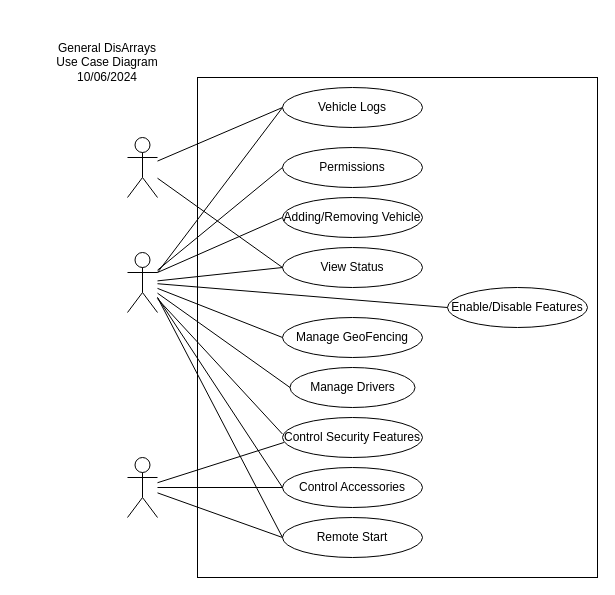
This 615x595 diagram has some shape labels left out. The centre of each missing label's shape, as x and y in pixels:
"Driver" goes at [142,487].
"Owner" goes at [142,282].
"Technician" goes at [142,167].
